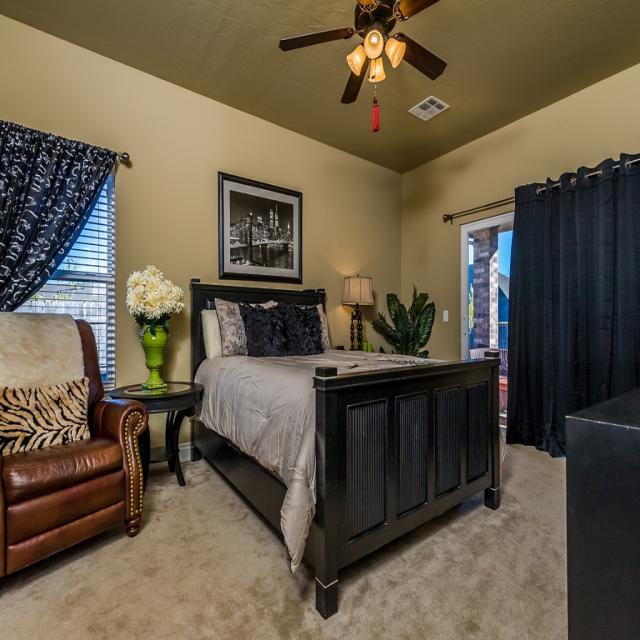bulb_on: (366, 58, 386, 78), (366, 33, 384, 51), (351, 52, 366, 66)
fan_off: (279, 0, 450, 108)
